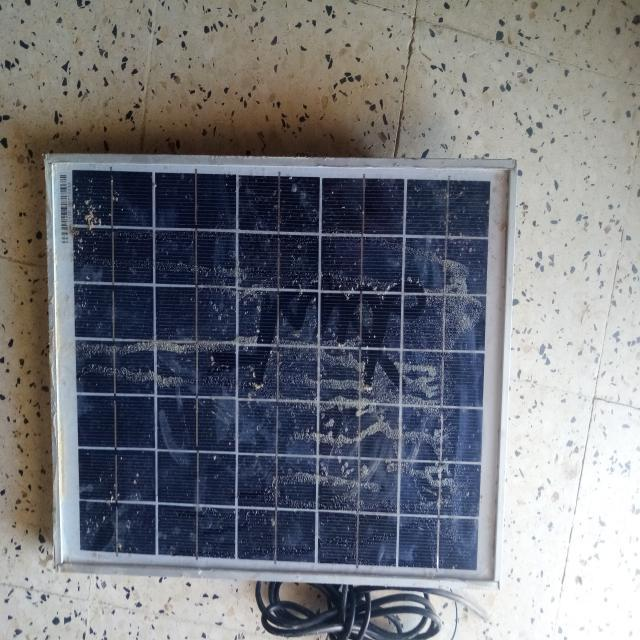faulty: (49, 158, 517, 583)
